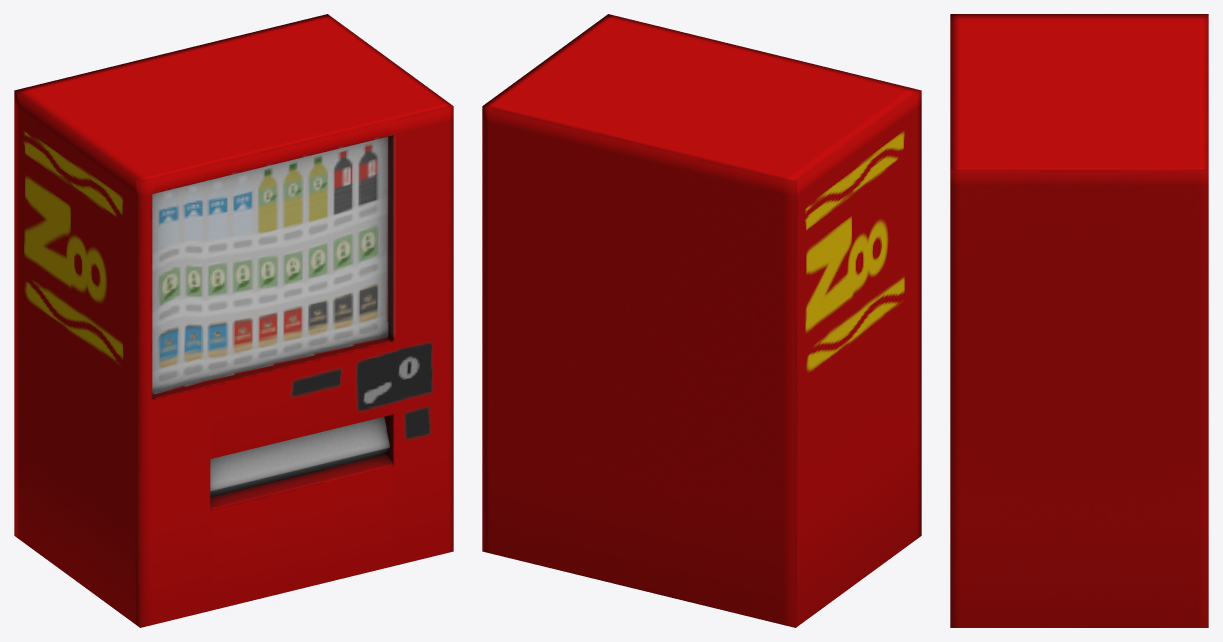
The model's file is VendingMachine.fbx.
3 renders of one model, left to right at view 1: azimuth 30°, elevation 25°; view 2: azimuth 150°, elevation 25°; view 3: azimuth 270°, elevation 25°, orthographic. The views are drawn at different scales.
Visible parts, largest first — view 1: zihannki; view 2: zihannki; view 3: zihannki.
Part boxes in pixels (x1=…): zihannki: x1=14, y1=14, x2=453, y2=627; zihannki: x1=482, y1=14, x2=921, y2=627; zihannki: x1=950, y1=14, x2=1208, y2=627.
Bounding box in the file's own units: 0.0555 × 0.0754 × 0.0387.
1 material, 1 textured.
